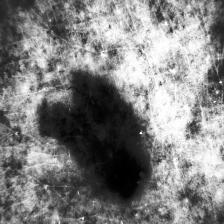Benign Marking or Mole: (41, 73, 147, 201)
